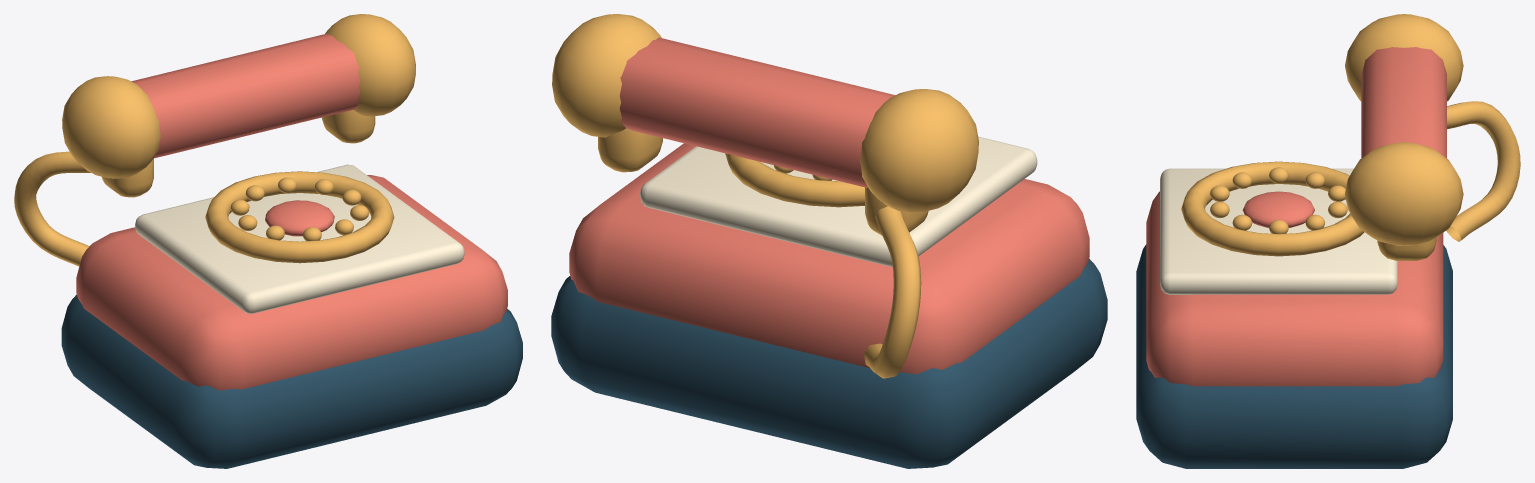
Rendered from hotelTelephone.glb.
3 views of the same model, side by side, from view 1: azimuth 30°, elevation 25°; view 2: azimuth 150°, elevation 25°; view 3: azimuth 270°, elevation 25° (orthographic). The views are drawn at different scales.
Visible parts, largest first — view 1: hotelTelephone Bellmare telephone enamel, hotelTelephone Bellmare telephone underside, hotelTelephone Bellmare telephone brass, hotelTelephone Bellmare telephone ivory; view 2: hotelTelephone Bellmare telephone enamel, hotelTelephone Bellmare telephone underside, hotelTelephone Bellmare telephone brass, hotelTelephone Bellmare telephone ivory; view 3: hotelTelephone Bellmare telephone enamel, hotelTelephone Bellmare telephone brass, hotelTelephone Bellmare telephone underside, hotelTelephone Bellmare telephone ivory.
Boxes of the visible parts, <box> form: hotelTelephone Bellmare telephone enamel: <box>76,33,507,390</box>; hotelTelephone Bellmare telephone underside: <box>61,294,522,468</box>; hotelTelephone Bellmare telephone brass: <box>14,14,415,266</box>; hotelTelephone Bellmare telephone ivory: <box>135,164,464,313</box>; hotelTelephone Bellmare telephone enamel: <box>569,37,1089,374</box>; hotelTelephone Bellmare telephone underside: <box>551,258,1107,468</box>; hotelTelephone Bellmare telephone brass: <box>552,14,978,378</box>; hotelTelephone Bellmare telephone ivory: <box>640,136,1037,267</box>; hotelTelephone Bellmare telephone enamel: <box>1146,47,1446,386</box>; hotelTelephone Bellmare telephone brass: <box>1181,14,1520,260</box>; hotelTelephone Bellmare telephone underside: <box>1136,244,1452,468</box>; hotelTelephone Bellmare telephone ivory: <box>1160,168,1397,294</box>.
Size of the model in its own units: 0.3123 by 0.265 by 0.2912.
